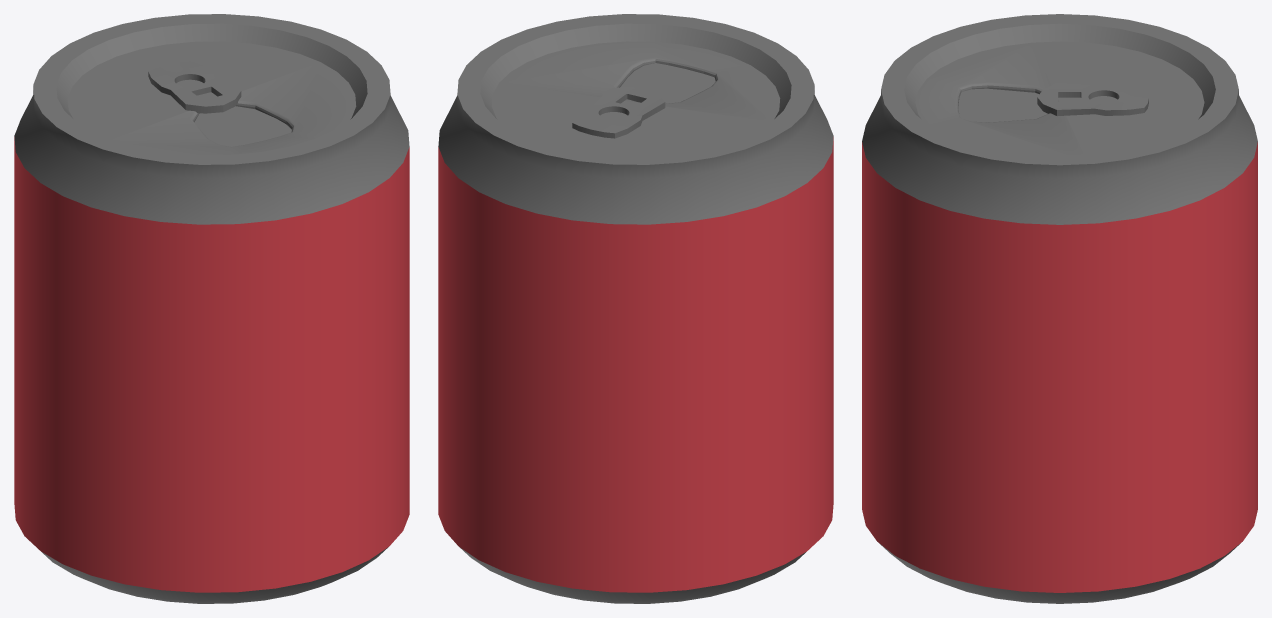
File: Canette.fbx
The picture shows the model from 3 angles, left to right: view 1: azimuth 30°, elevation 25°; view 2: azimuth 150°, elevation 25°; view 3: azimuth 270°, elevation 25°; orthographic projection.
Parts seen in each view (by area): view 1: Canette; view 2: Canette; view 3: Canette.
Part boxes in pixels (<box>): Canette: <box>14,14,409,603</box>; Canette: <box>438,14,833,603</box>; Canette: <box>862,14,1257,603</box>.
Size of the model in its own units: 200 by 250 by 200.
